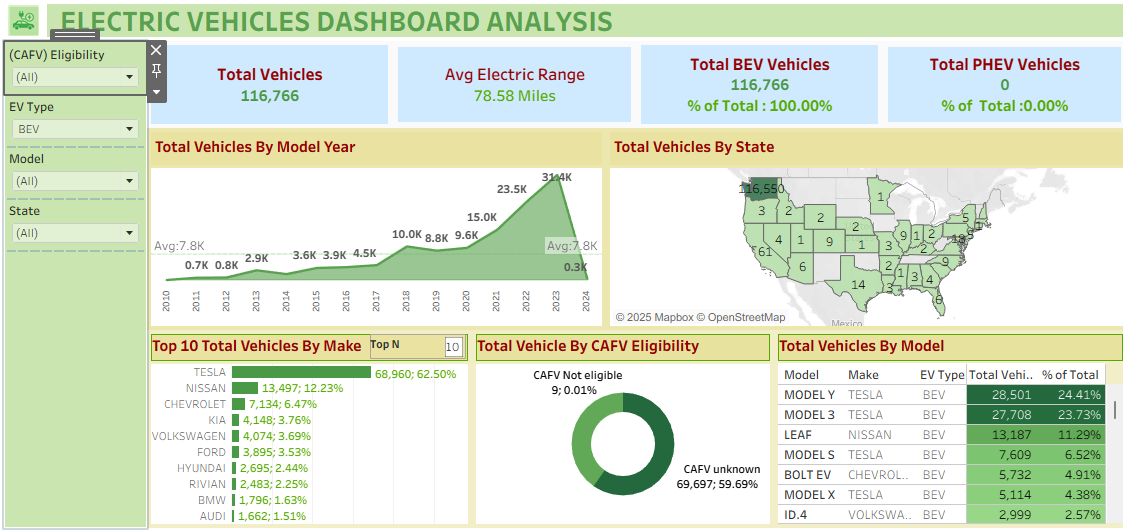

Layout of this report page (visuals, bound fields, positions):
{"tool":"tableau","page":{"name":"Dashboard 1","canvas":[1000,1000],"units":"permille","ordinal":0},"visuals":[{"type":"image","param":"Image/ChatGPT Image Nov 24, 2025, 09_27_16 AM.png","box":[7,14.7,34.2,74.6]},{"type":"title","box":[41.3,14.7,951.7,74.6]},{"type":"worksheet","title":"Total Vehicles","mark":"Automatic","box":[132.6,90.1,215.1,159.9]},{"type":"worksheet","title":"Avg Electric Range","mark":"Automatic","box":[347.7,90.1,215.1,159.9]},{"type":"worksheet","title":"Total BEV Vehicles","mark":"Automatic","box":[562.8,90.1,215.1,159.9]},{"type":"worksheet","title":"Total PHEV Vehicles","mark":"Automatic","box":[777.9,90.1,215.1,159.9]},{"type":"filter","title":"Total Vehicles By Model Year","param":"[federated.0ixcjh91kicq6q12kmvvb1gsbgbx].[none:Clean Alternative Fuel Vehicle (C","box":[7.9,91.1,123.8,95.6]},{"type":"filter","title":"Top 10 Total Vehicles By Make","param":"[federated.0ixcjh91kicq6q12kmvvb1gsbgbx].[none:Electric Vehicle Type:nk]","box":[7.9,186.7,123.8,95.6]},{"type":"worksheet","title":"Total Vehicles By Model Year","mark":"Area","rows":["Calculation_344525374805499905","Calculation_344525374805499905"],"cols":["Model Year"],"box":[132.6,250,403,371.3]},{"type":"worksheet","title":"Total Vehicles By State","mark":"Multipolygon","box":[535.5,250,457.4,371.3]},{"type":"filter","title":"Total Vehicles By Model Year","param":"[federated.0ixcjh91kicq6q12kmvvb1gsbgbx].[none:Model:nk]","box":[7.9,282.3,123.8,95.6]},{"type":"filter","title":"Top 10 Total Vehicles By Make","param":"[federated.0ixcjh91kicq6q12kmvvb1gsbgbx].[none:State:nk]","box":[7.9,377.9,123.8,95.6]},{"type":"worksheet","title":"Top 10 Total Vehicles By Make","mark":"Automatic","rows":["Make"],"cols":["Calculation_344525374805499905"],"box":[132.6,621.3,285.3,364]},{"type":"worksheet","title":"Total Vehicle By CAFV Eligibility","mark":"Pie","rows":["Calculation_1639873218824470531","Calculation_1639873218824470531"],"box":[417.9,621.3,265.2,364]},{"type":"worksheet","title":"Total Vehicles By Model","mark":"Square","rows":["Model","Make","Electric Vehicle Type"],"box":[683.1,621.3,309.9,364]},{"type":"parameter","param":"[Parameters].[Parameter 1]","box":[328.4,628.7,84.3,46]}]}

Visuals, with their boxes on the dashboard's canvas, which has no fixed pixel size, in thousandths of its width and height (x1, y1, x2, y2). These are canvas units, not pixel positions in the 1123x531 screenshot, which may show the page scaled, cropped or inside an application window:
image: [left=7, top=15, right=41, bottom=89]
title: [left=41, top=15, right=993, bottom=89]
"Total Vehicles" worksheet: [left=133, top=90, right=348, bottom=250]
"Avg Electric Range" worksheet: [left=348, top=90, right=563, bottom=250]
"Total BEV Vehicles" worksheet: [left=563, top=90, right=778, bottom=250]
"Total PHEV Vehicles" worksheet: [left=778, top=90, right=993, bottom=250]
"Total Vehicles By Model Year" filter: [left=8, top=91, right=132, bottom=187]
"Top 10 Total Vehicles By Make" filter: [left=8, top=187, right=132, bottom=282]
"Total Vehicles By Model Year" worksheet (Area marks): [left=133, top=250, right=536, bottom=621]
"Total Vehicles By State" worksheet (Multipolygon marks): [left=536, top=250, right=993, bottom=621]
"Total Vehicles By Model Year" filter: [left=8, top=282, right=132, bottom=378]
"Top 10 Total Vehicles By Make" filter: [left=8, top=378, right=132, bottom=474]
"Top 10 Total Vehicles By Make" worksheet: [left=133, top=621, right=418, bottom=985]
"Total Vehicle By CAFV Eligibility" worksheet (Pie marks): [left=418, top=621, right=683, bottom=985]
"Total Vehicles By Model" worksheet (Square marks): [left=683, top=621, right=993, bottom=985]
parameter: [left=328, top=629, right=413, bottom=675]
